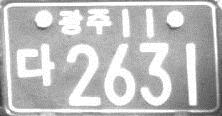1: (184, 40, 201, 107), (118, 6, 132, 41), (143, 6, 156, 39)
2: (66, 42, 102, 108)
3: (137, 41, 173, 106)
6: (104, 42, 136, 107)
광주_O: (57, 6, 113, 37)
다: (15, 42, 55, 89)
